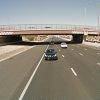Bridge: (6, 10, 99, 45)
